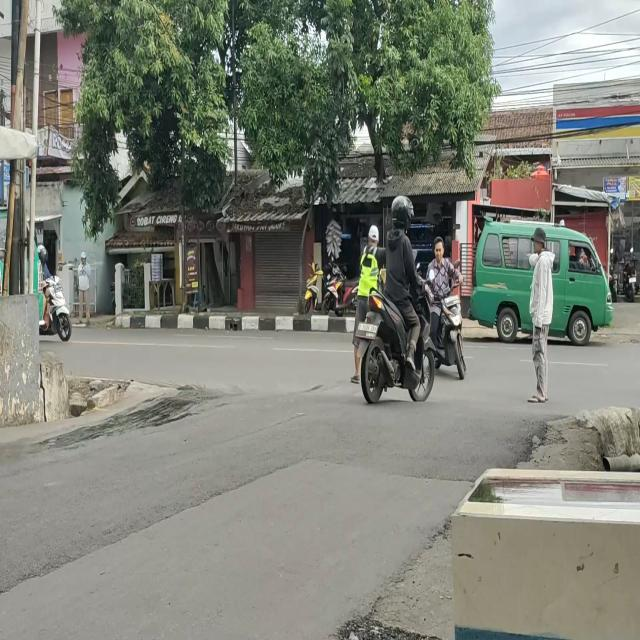helmet: (391, 198, 411, 230), (35, 243, 46, 262)
no-helmet: (431, 236, 445, 261)
